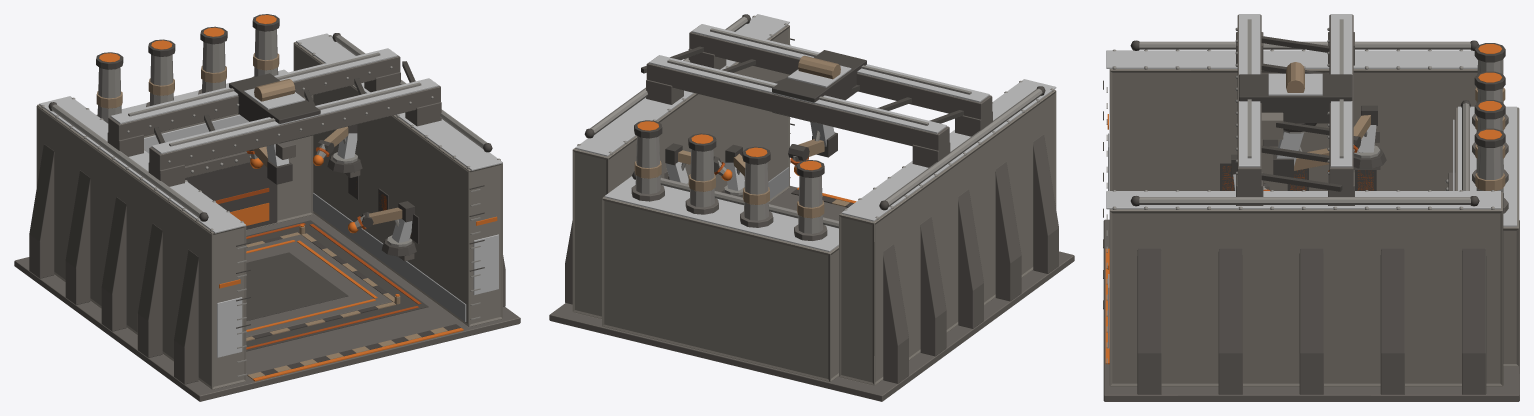
Rendered from crucible_experimental_gantry.glb.
The picture shows the model from 3 angles, left to right: view 1: azimuth 30°, elevation 25°; view 2: azimuth 150°, elevation 25°; view 3: azimuth 270°, elevation 25°; orthographic projection. The views are drawn at different scales.
Visible parts, largest first — view 1: Body; view 2: Body; view 3: Body.
Boxes of the visible parts, x1,y1,x2,y2 form: Body: (14, 14, 520, 401); Body: (549, 14, 1074, 401); Body: (1103, 14, 1519, 401).
Bounding box in the file's own units: 30.8 × 19.9 × 30.85.
